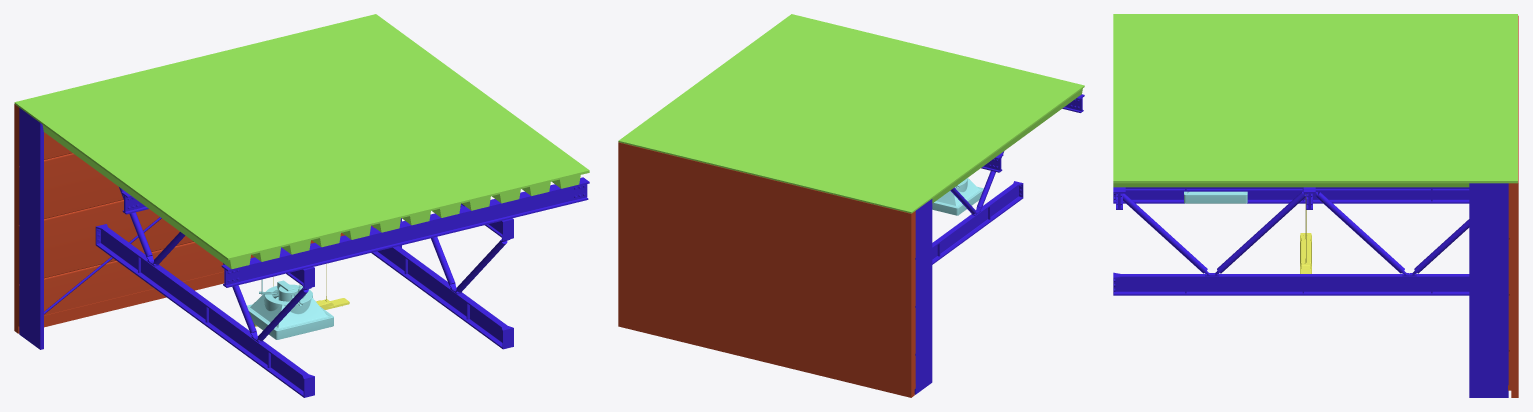
File: Roof_A.glb
3 views of the same model, side by side, from view 1: azimuth 30°, elevation 25°; view 2: azimuth 150°, elevation 25°; view 3: azimuth 270°, elevation 25° (orthographic). The views are drawn at different scales.
Visible parts, largest first — view 1: Roof_A; view 2: Roof_A; view 3: Roof_A.
Part boxes in pixels (x1,y1,x2,y2): Roof_A: (14, 14, 589, 397); Roof_A: (618, 14, 1084, 397); Roof_A: (1113, 14, 1518, 397).
Bounding box in the file's own units: 10 × 6.05 × 10.25.
